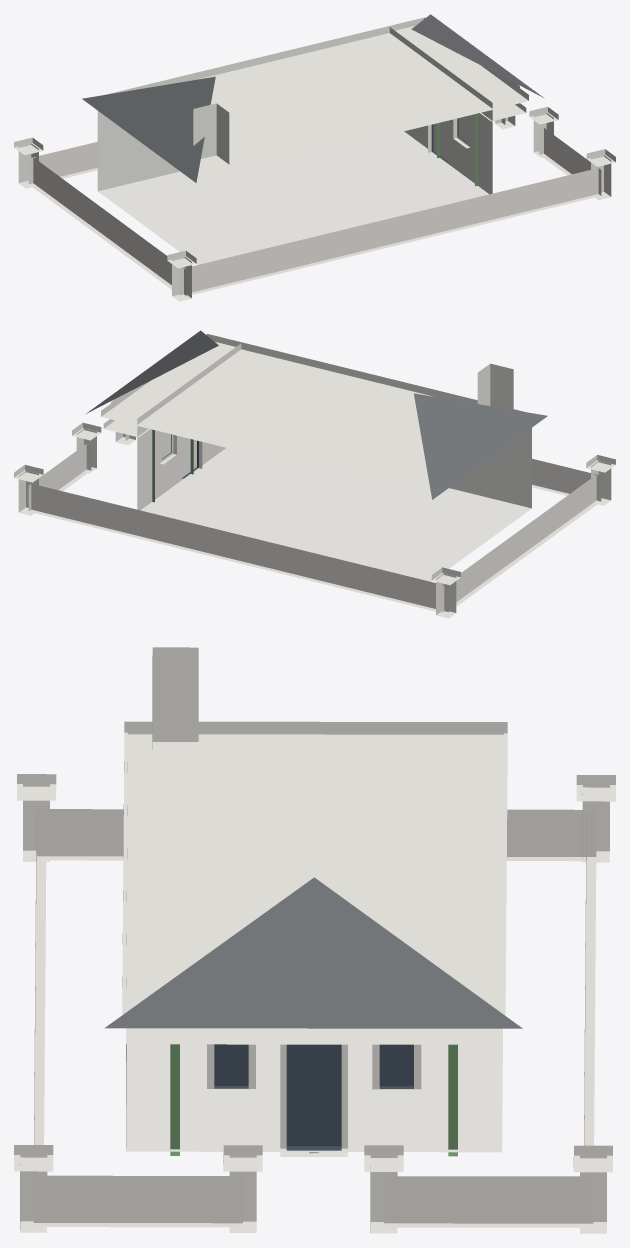
File: cunucu_white.glb
The picture shows the model from 3 angles, top to bottom: view 1: azimuth 30°, elevation 25°; view 2: azimuth 150°, elevation 25°; view 3: azimuth 270°, elevation 25°; orthographic projection. The views are drawn at different scales.
Parts seen in each view (by area): view 1: cunucu_paradera_lod0; view 2: cunucu_paradera_lod0; view 3: cunucu_paradera_lod0.
Boxes of the visible parts, left/top/right/bottom form: cunucu_paradera_lod0: left=14, top=14, right=615, bottom=301; cunucu_paradera_lod0: left=14, top=330, right=615, bottom=618; cunucu_paradera_lod0: left=14, top=647, right=615, bottom=1233.
Size of what is drawn, in the model's own units: 14.99 by 4.65 by 9.83.
